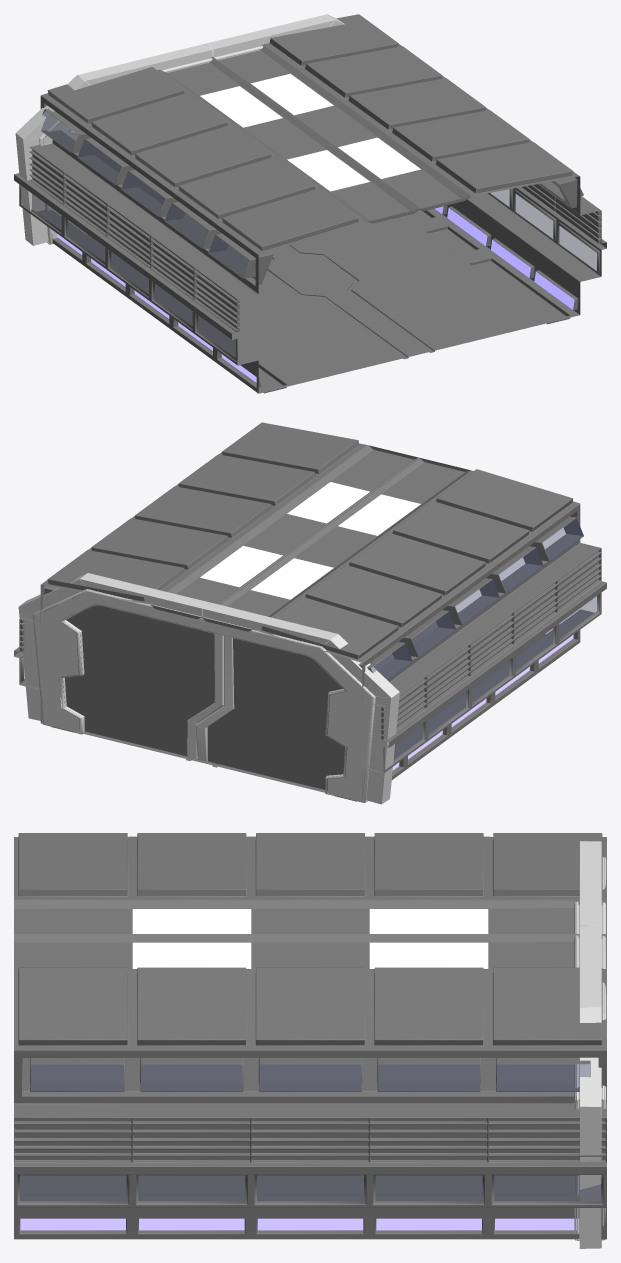
File: hangar.glb
The picture shows the model from 3 angles, top to bottom: view 1: azimuth 30°, elevation 25°; view 2: azimuth 150°, elevation 25°; view 3: azimuth 270°, elevation 25°; orthographic projection. The views are drawn at different scales.
Visible parts, largest first — view 1: Body, Floor, Frame, Light02, Win01, Win03, Light01; view 2: Body, Frame, Extrude_3, Extrude_1, Light02, Win03, Win01, Floor, Extrude_2, Extrude_4, Light01; view 3: Body, Floor, Win01, Win03, Light02, Frame, Light01.
Boxes of the visible parts, x1,y1,x2,y2 form: Body: (14,14,606,393); Floor: (87,208,579,393); Frame: (15,14,344,245); Light02: (200,73,420,191); Win01: (32,189,596,357); Win03: (41,110,249,277); Light01: (51,206,574,382); Body: (14,422,606,801); Frame: (18,573,399,804); Extrude_3: (63,604,223,756); Extrude_1: (207,637,354,790); Light02: (200,482,420,599); Win03: (371,518,583,679); Win01: (24,596,596,759); Floor: (41,618,545,801); Extrude_2: (195,635,234,761); Extrude_4: (187,633,223,758); Light01: (60,635,573,770); Body: (14,833,606,1239); Floor: (20,1064,576,1194); Win01: (20,1175,600,1200); Win03: (31,1064,589,1091); Light02: (132,909,488,968); Frame: (574,841,606,1248); Light01: (20,1218,576,1230).
Size of the model in its own units: 29.62 by 11.75 by 29.74.
